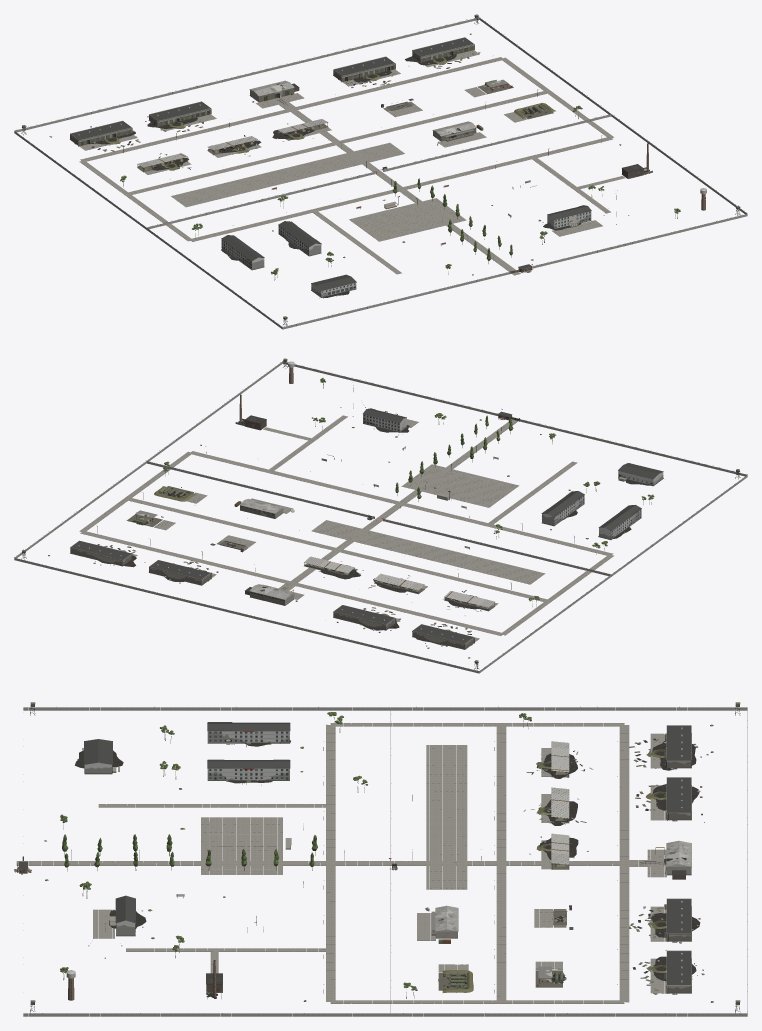
File: site_park_city.glb
The picture shows the model from 3 angles, top to bottom: view 1: azimuth 30°, elevation 25°; view 2: azimuth 150°, elevation 25°; view 3: azimuth 270°, elevation 25°; orthographic projection. The views are drawn at different scales.
Visible parts, largest first — view 1: deco|tile_conc, deco|tile_po2, deco_trees|A_A, deco|A_A, b_box3|A_A, b_box1|A_A, b_box4|A_A, b_box2|A_A, b_barracks2|A_A, b_barracks1|A_A, b_hq|A_A, b_canteen|A_A (+1 smaller); view 2: deco|tile_conc, deco|tile_po2, deco_trees|A_A, b_box1|A_A, b_box2|A_A, b_box4|A_A, b_box3|A_A, deco|A_A, b_barracks1|A_A, b_barracks2|A_A, b_canteen|A_A, b_hq|A_A (+3 smaller); view 3: deco|tile_conc, deco|tile_po2, deco_trees|A_A, b_barracks1|A_A, b_barracks2|A_A, deco|A_A, b_box3|A_A, b_box2|A_A, b_box1|A_A, b_box4|A_A, b_canteen|A_A, b_hq|A_A (+11 smaller).
Boxes of the visible parts, x1,y1,x2,y2 form: deco|tile_conc: [79, 50, 625, 275]; deco|tile_po2: [14, 17, 747, 329]; deco_trees|A_A: [49, 33, 680, 280]; deco|A_A: [21, 14, 740, 326]; b_box3|A_A: [333, 56, 395, 82]; b_box1|A_A: [70, 120, 132, 146]; b_box4|A_A: [412, 37, 474, 62]; b_box2|A_A: [148, 101, 211, 126]; b_barracks2|A_A: [278, 221, 321, 256]; b_barracks1|A_A: [221, 235, 264, 270]; b_hq|A_A: [547, 205, 591, 228]; b_canteen|A_A: [311, 274, 356, 298]; deco|tile_conc: [79, 415, 613, 641]; deco|tile_po2: [14, 361, 747, 673]; deco_trees|A_A: [48, 378, 654, 658]; b_box1|A_A: [412, 624, 474, 649]; b_box2|A_A: [333, 605, 395, 630]; b_box4|A_A: [70, 540, 132, 566]; b_box3|A_A: [148, 560, 211, 585]; deco|A_A: [14, 358, 747, 670]; b_barracks1|A_A: [598, 505, 641, 539]; b_barracks2|A_A: [541, 491, 584, 526]; b_canteen|A_A: [618, 463, 663, 486]; b_hq|A_A: [363, 408, 406, 432]; deco|tile_conc: [16, 723, 666, 1003]; deco|tile_po2: [23, 707, 747, 1016]; deco_trees|A_A: [44, 712, 713, 1002]; b_barracks1|A_A: [207, 722, 290, 744]; b_barracks2|A_A: [207, 760, 290, 781]; deco|A_A: [30, 702, 747, 1013]; b_box3|A_A: [664, 898, 691, 941]; b_box2|A_A: [664, 777, 691, 820]; b_box1|A_A: [664, 725, 691, 768]; b_box4|A_A: [664, 950, 691, 993]; b_canteen|A_A: [82, 739, 119, 774]; b_hq|A_A: [110, 895, 135, 936].
Bounding box in the file's own units: 531 × 30.55 × 537.
59 materials, 42 textured.
